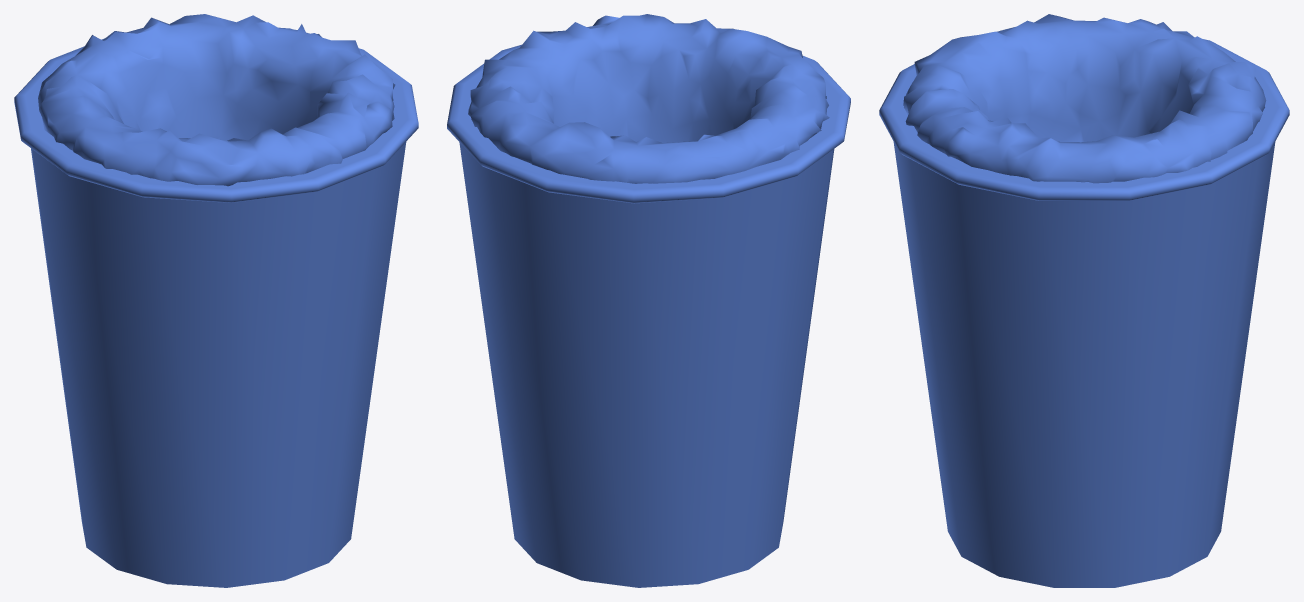
File: Trash.fbx
3 renders of one model, left to right at view 1: azimuth 30°, elevation 25°; view 2: azimuth 150°, elevation 25°; view 3: azimuth 270°, elevation 25°, orthographic.
Visible parts, largest first — view 1: Cylinder.005, Cylinder.007; view 2: Cylinder.005, Cylinder.007; view 3: Cylinder.005, Cylinder.007.
Part boxes in pixels (x1,y1,x2,y2): Cylinder.005: [14, 27, 418, 587]; Cylinder.007: [38, 14, 395, 186]; Cylinder.005: [447, 44, 850, 587]; Cylinder.007: [468, 14, 829, 183]; Cylinder.005: [879, 39, 1289, 587]; Cylinder.007: [903, 14, 1266, 183].
Size of the model in its own units: 59.45 by 75.32 by 60.98.
